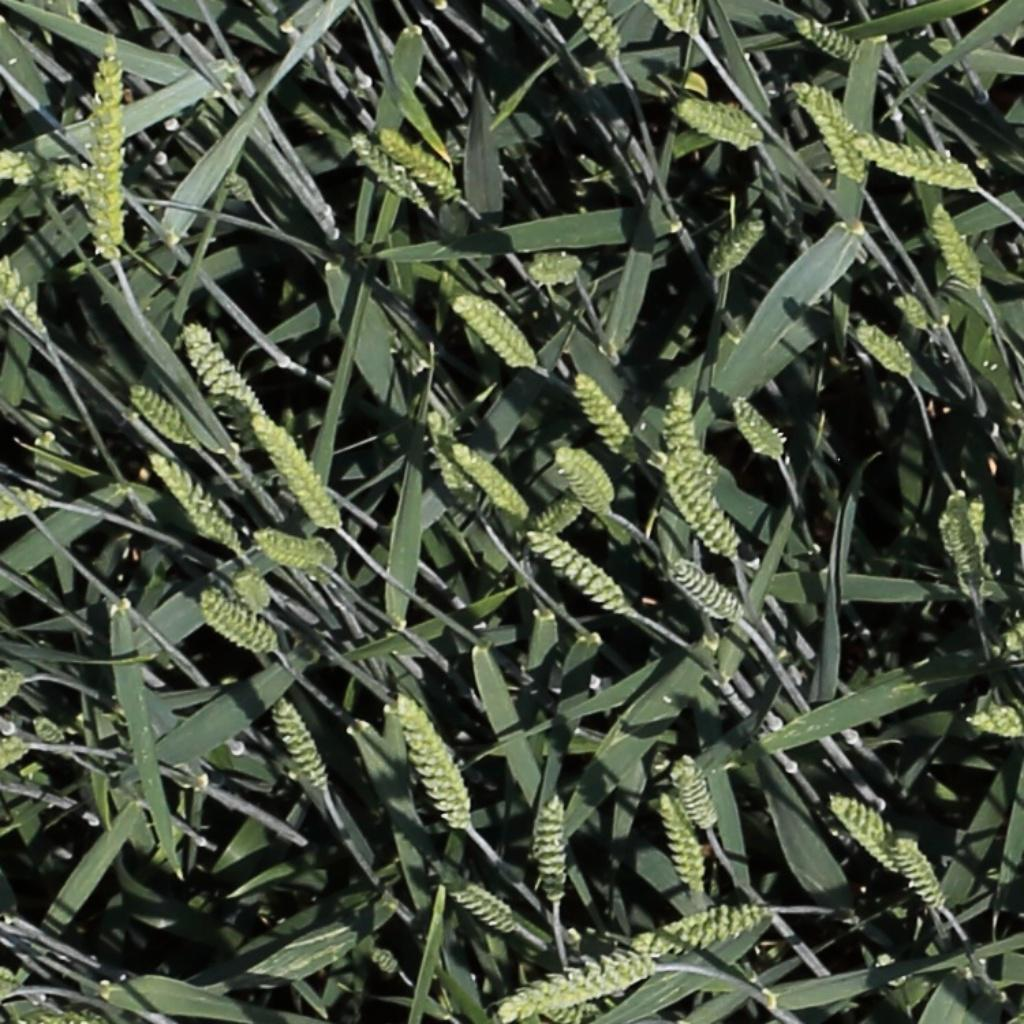0-0: (251, 408, 346, 533), (393, 690, 475, 834), (502, 951, 665, 1020), (146, 449, 243, 552), (658, 447, 742, 562), (629, 901, 779, 963), (178, 320, 267, 423), (529, 529, 632, 617), (0, 147, 129, 208), (802, 84, 872, 187), (572, 368, 644, 466), (822, 791, 906, 872), (856, 133, 980, 187), (450, 441, 533, 521), (454, 292, 539, 370), (350, 128, 428, 211), (535, 793, 584, 917), (273, 696, 331, 798), (379, 124, 461, 193), (658, 786, 707, 899), (928, 196, 985, 292), (0, 240, 51, 342), (890, 836, 958, 911), (0, 188, 36, 324), (552, 443, 615, 520), (200, 591, 278, 653), (128, 380, 199, 447), (442, 873, 524, 931), (673, 558, 744, 623), (666, 753, 720, 838), (927, 483, 970, 585), (731, 391, 790, 462), (960, 690, 1018, 760), (708, 214, 770, 279), (677, 99, 765, 141), (857, 320, 917, 378), (666, 378, 703, 471), (573, 0, 629, 61), (510, 983, 589, 1022), (798, 16, 862, 60), (255, 532, 333, 567), (517, 249, 587, 288), (0, 477, 52, 528), (963, 498, 989, 594), (233, 563, 274, 619), (895, 285, 937, 337), (981, 617, 1024, 663), (531, 501, 582, 535), (0, 740, 25, 809), (7, 1008, 110, 1024), (656, 0, 697, 38), (221, 166, 260, 204), (367, 943, 404, 978), (30, 715, 69, 748), (0, 674, 19, 729)
